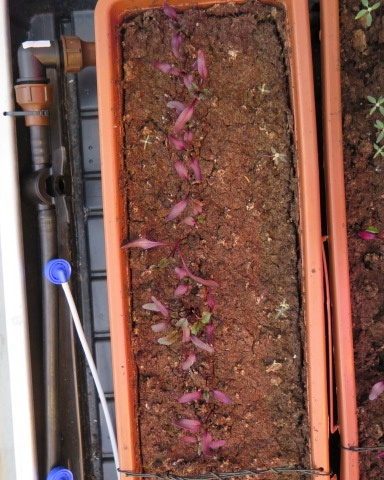crop: (122, 237, 221, 287), (172, 49, 207, 131), (178, 378, 236, 407), (169, 158, 196, 219), (173, 418, 220, 448), (163, 5, 190, 57), (157, 326, 209, 351), (202, 292, 221, 346), (178, 435, 235, 452)
weed: (350, 1, 383, 27), (267, 147, 287, 167), (364, 95, 384, 115), (138, 132, 153, 151), (255, 83, 272, 96), (370, 143, 384, 158), (274, 308, 287, 320), (279, 299, 289, 308)
